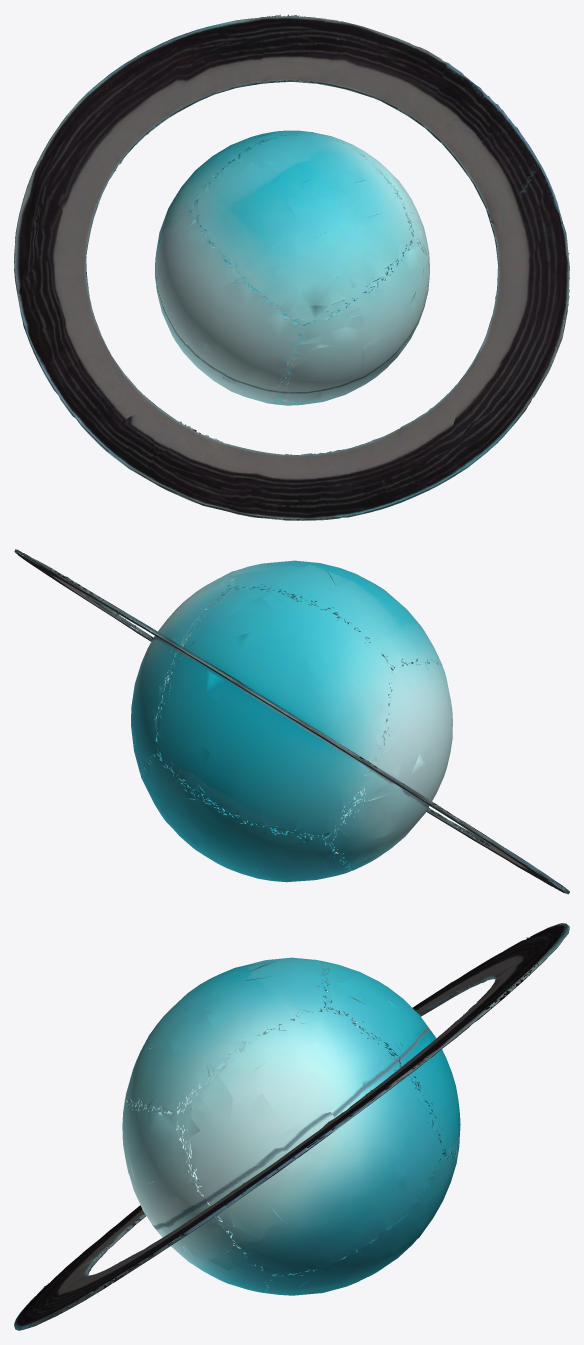
File: Uranus.glb
3 views of the same model, one above another, from view 1: azimuth 30°, elevation 25°; view 2: azimuth 150°, elevation 25°; view 3: azimuth 270°, elevation 25° (orthographic). The views are drawn at different scales.
Parts seen in each view (by area): view 1: Mesh_0.008; view 2: Mesh_0.008; view 3: Mesh_0.008.
Part boxes in pixels (x1,y1,x2,y2): Mesh_0.008: (14,14,569,520); Mesh_0.008: (14,549,569,894); Mesh_0.008: (14,923,569,1330).
Bounding box in the file's own units: 1.93 × 1.3 × 1.63.
1 material, 1 textured.
